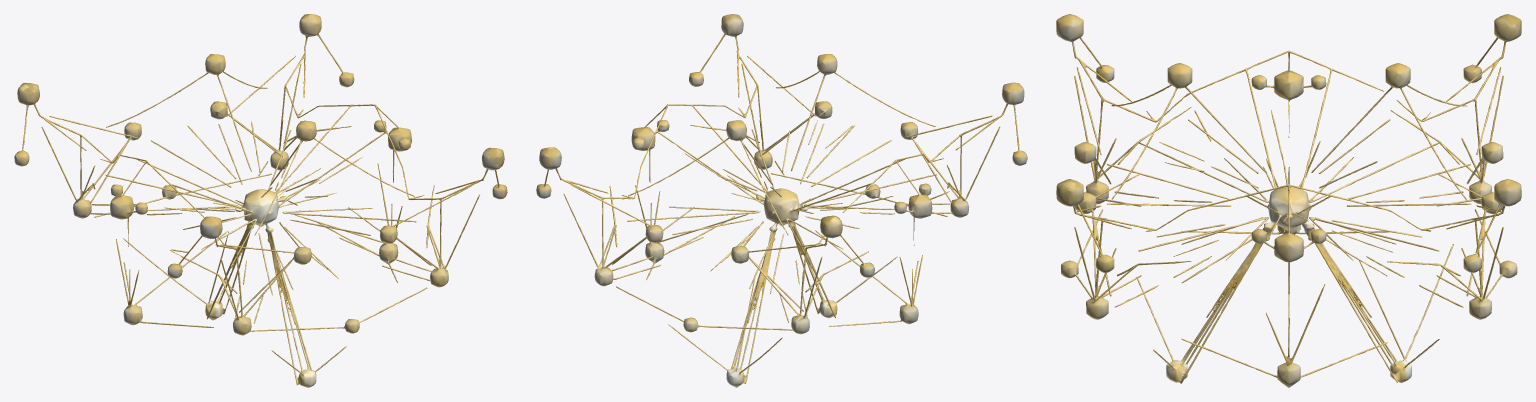
Rendered from artifact.glb.
3 views of the same model, side by side, from view 1: azimuth 30°, elevation 25°; view 2: azimuth 150°, elevation 25°; view 3: azimuth 270°, elevation 25° (orthographic). The views are drawn at different scales.
Parts seen in each view (by area): view 1: Mesh_0; view 2: Mesh_0; view 3: Mesh_0.
Boxes of the visible parts, x1=… form: Mesh_0: x1=14, y1=14, x2=507, y2=387; Mesh_0: x1=536, y1=14, x2=1027, y2=387; Mesh_0: x1=1056, y1=14, x2=1521, y2=387.
Bounding box in the file's own units: 1.9 × 1.43 × 1.89.
Materials: 1 (1 with a texture image).
